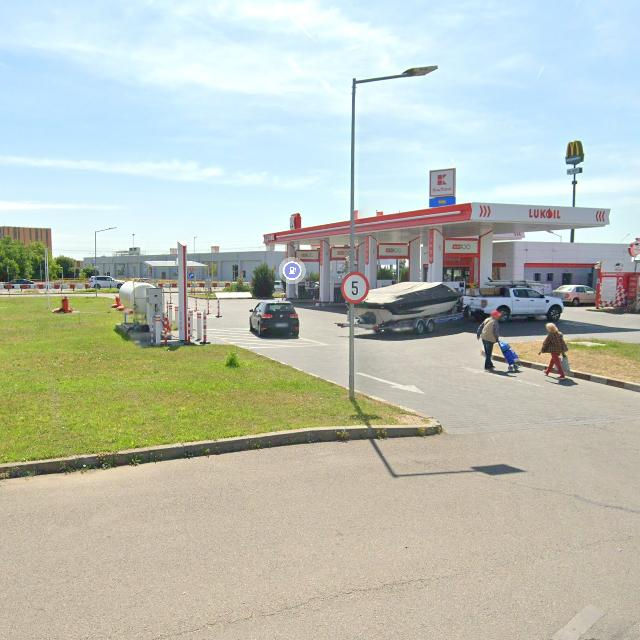forb_speed_over_5: (341, 270, 369, 302)
